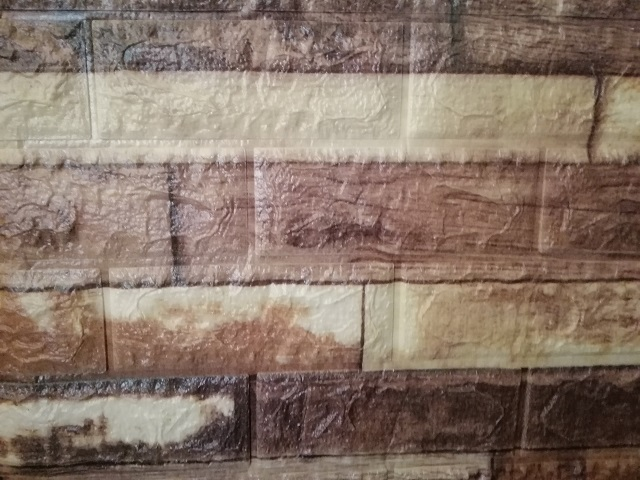wall: (5, 2, 640, 480)
